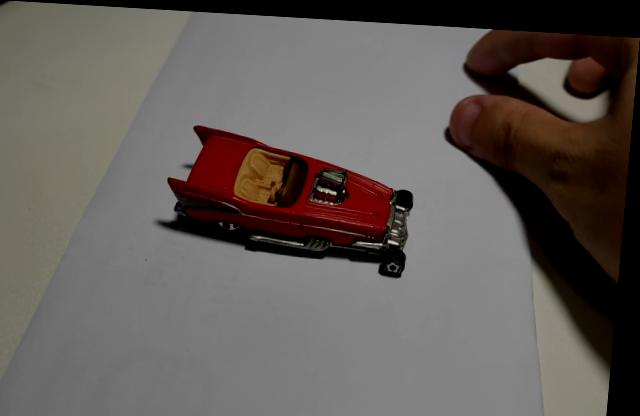03_V8: (171, 124, 416, 274)
